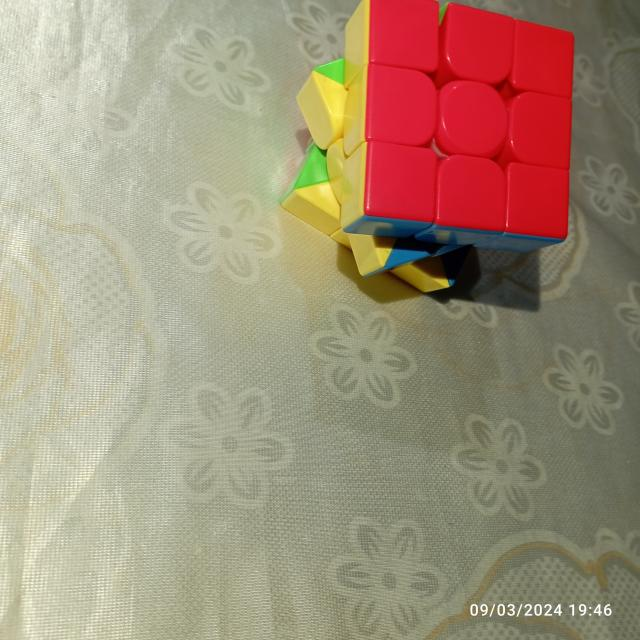Rub: (268, 0, 581, 298)
